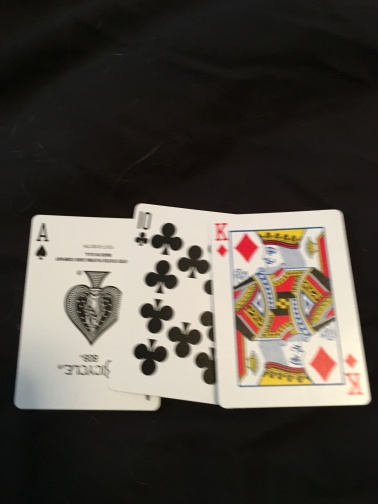ace: (19, 212, 130, 411)
king: (209, 208, 372, 410)
ten: (114, 202, 217, 406)
